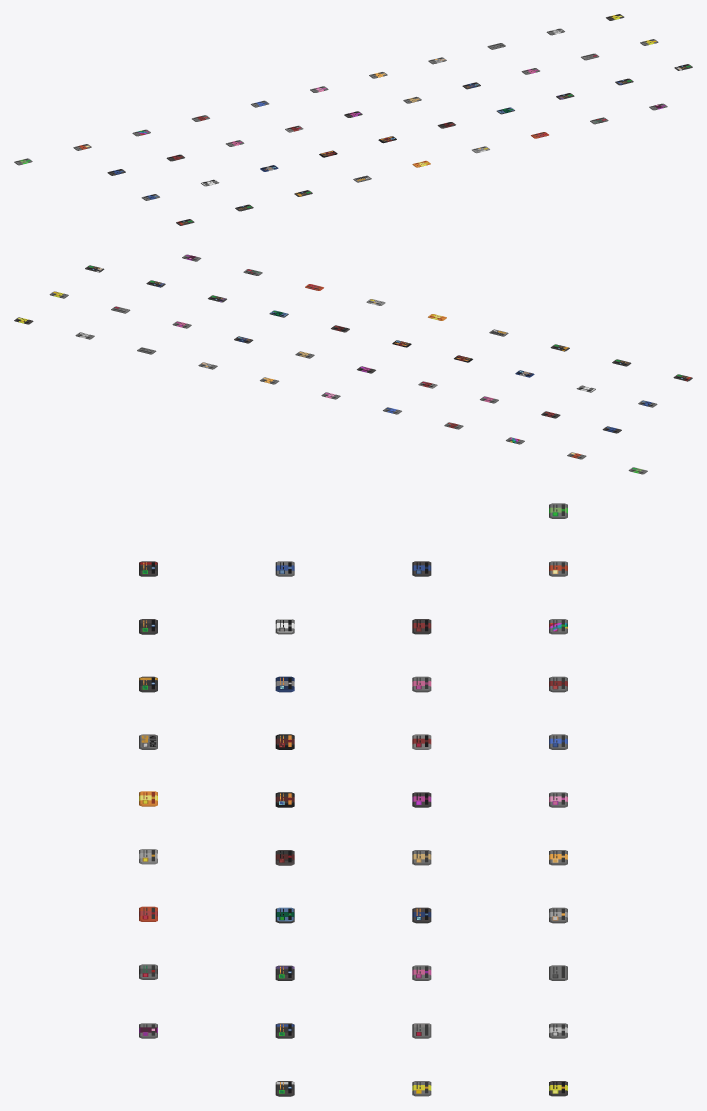
File: IDs.fbx
The picture shows the model from 3 angles, top to bottom: view 1: azimuth 30°, elevation 25°; view 2: azimuth 150°, elevation 25°; view 3: azimuth 270°, elevation 25°; orthographic projection. The views are drawn at different scales.
Size of the model in its own units: 10.26 by 0.0252 by 3.14.
